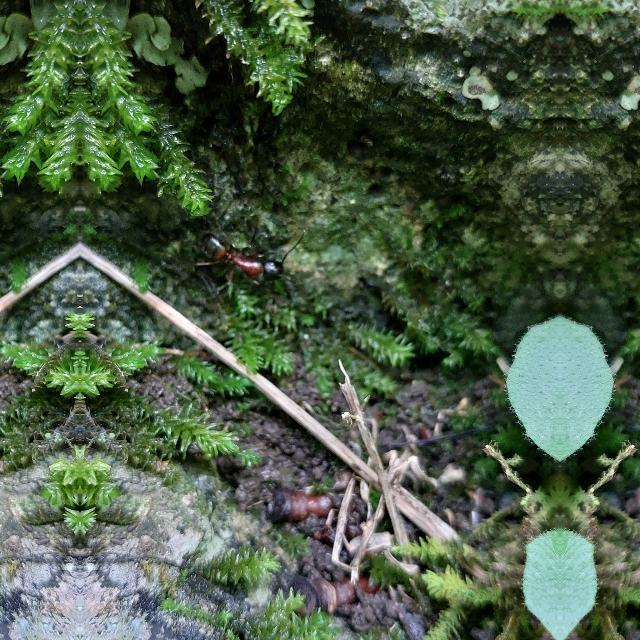Camponotus: (193, 214, 303, 308)
